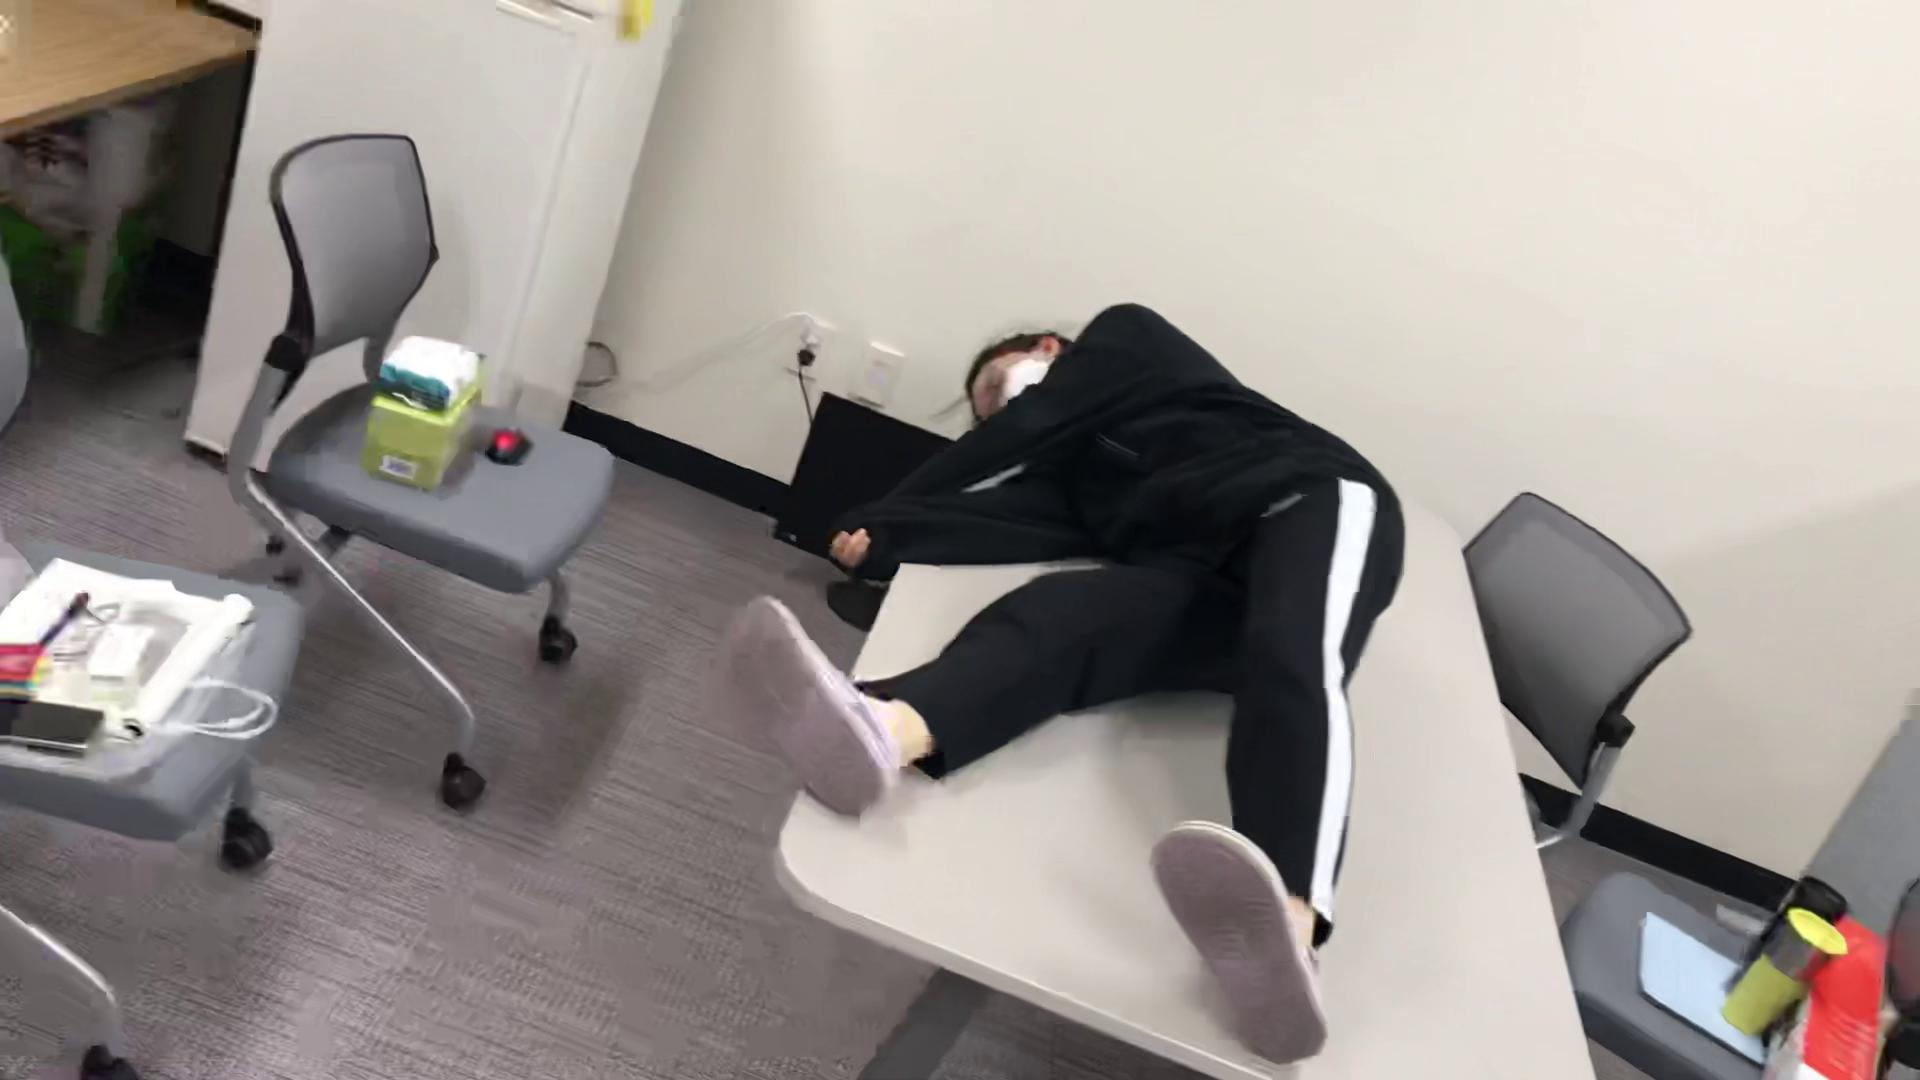sleep: (719, 293, 1398, 1059)
